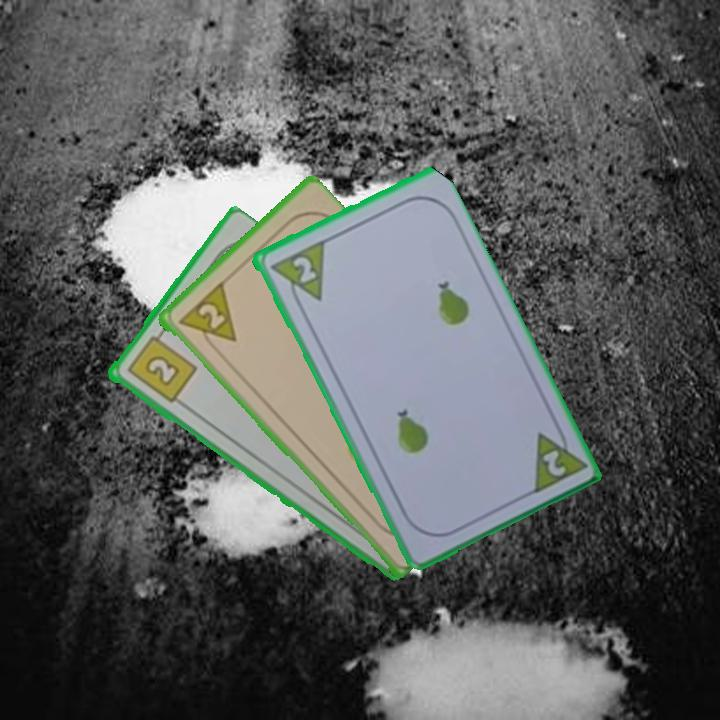2b: (123, 326, 199, 406)
2p: (174, 280, 239, 356), (526, 418, 587, 498), (288, 252, 319, 286)
